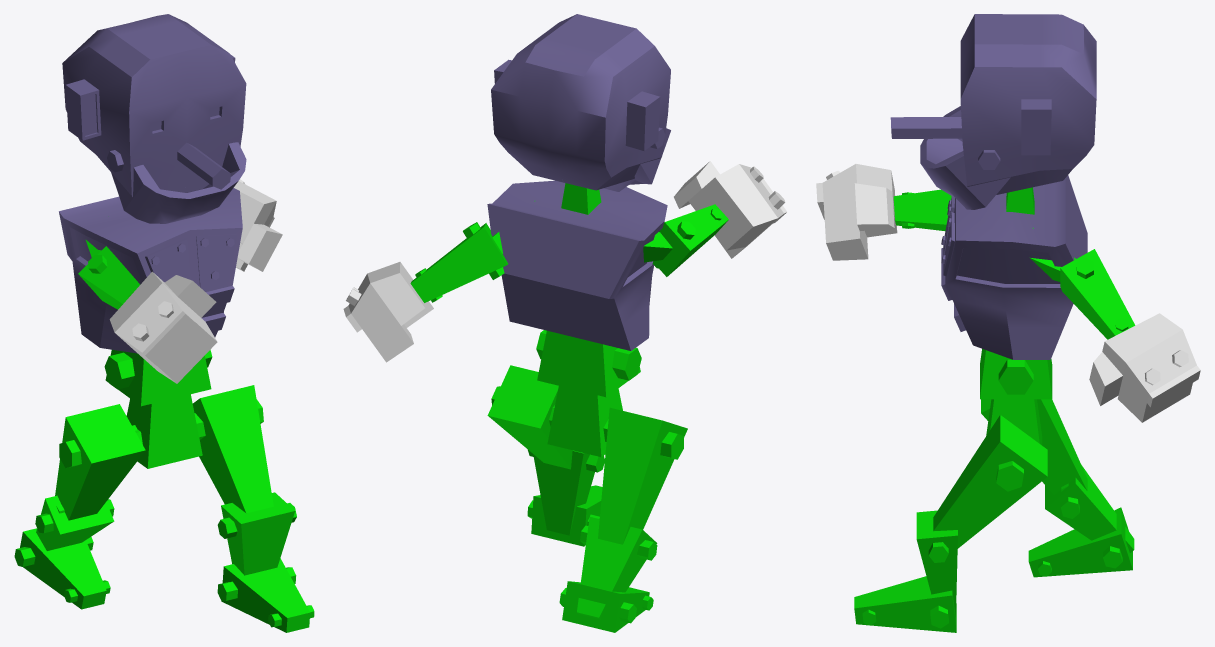
Rendered from Robot_Dummy_class.fbx.
3 renders of one model, left to right at view 1: azimuth 30°, elevation 25°; view 2: azimuth 150°, elevation 25°; view 3: azimuth 270°, elevation 25°, orthographic. The views are drawn at different scales.
Visible parts, largest first — view 1: Head, Spine02, Hand.R, Thigh.L, Thigh.R, Foot.L, Foot.R, Calf.L, Pelvis, Spine01, Hand.L, Calf.R (+1 smaller); view 2: Head, Spine02, Thigh.R, Hand.R, Hand.L, Spine01, Thigh.L, Calf.R, ForeArm.L, Pelvis, Calf.L, Foot.R (+3 smaller); view 3: Head, Spine02, Hand.L, Thigh.L, Hand.R, Foot.L, Foot.R, ForeArm.L, Spine01, Calf.R, Thigh.R, Calf.L (+3 smaller).
Boxes of the visible parts, box(x1,y1,x2,y2) form: Head: box(62, 14, 246, 223); Spine02: box(59, 188, 242, 353); Hand.R: box(109, 271, 217, 383); Thigh.L: box(192, 385, 273, 513); Thigh.R: box(55, 404, 145, 520); Foot.L: box(217, 558, 314, 632); Foot.R: box(14, 528, 110, 609); Calf.L: box(217, 492, 296, 575); Pelvis: box(126, 394, 202, 468); Spine01: box(104, 349, 212, 406); Hand.L: box(233, 179, 282, 271); Calf.R: box(35, 495, 114, 550); Head: box(491, 14, 670, 191); Spine02: box(487, 180, 667, 350); Thigh.R: box(598, 407, 687, 544); Hand.R: box(674, 161, 786, 258); Hand.L: box(343, 262, 433, 362); Spine01: box(536, 330, 641, 397); Thigh.L: box(487, 365, 572, 469); Calf.R: box(577, 517, 657, 619); ForeArm.L: box(410, 222, 508, 302); Pelvis: box(547, 386, 622, 457); Calf.L: box(527, 449, 604, 535); Foot.R: box(559, 581, 653, 632); Head: box(890, 14, 1096, 209); Spine02: box(941, 175, 1087, 359); Hand.L: box(1089, 313, 1200, 422); Thigh.L: box(933, 415, 1047, 548); Hand.R: box(816, 164, 897, 260); Foot.L: box(854, 576, 956, 632); Foot.R: box(1028, 507, 1132, 577); ForeArm.L: box(1060, 249, 1135, 339); Spine01: box(980, 349, 1052, 399); Calf.R: box(1045, 465, 1134, 552); Thigh.R: box(981, 399, 1087, 494); Calf.L: box(916, 510, 957, 616).
Bounding box in the file's own units: 448 × 796 × 485.
